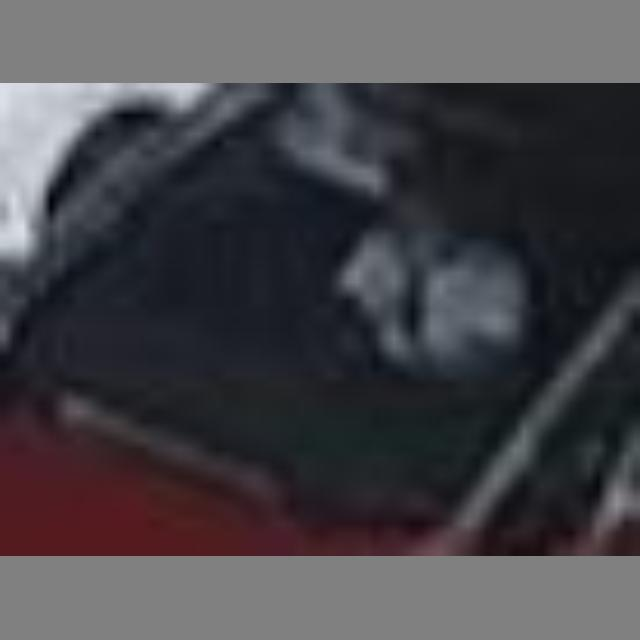pakai: (325, 194, 510, 389)
